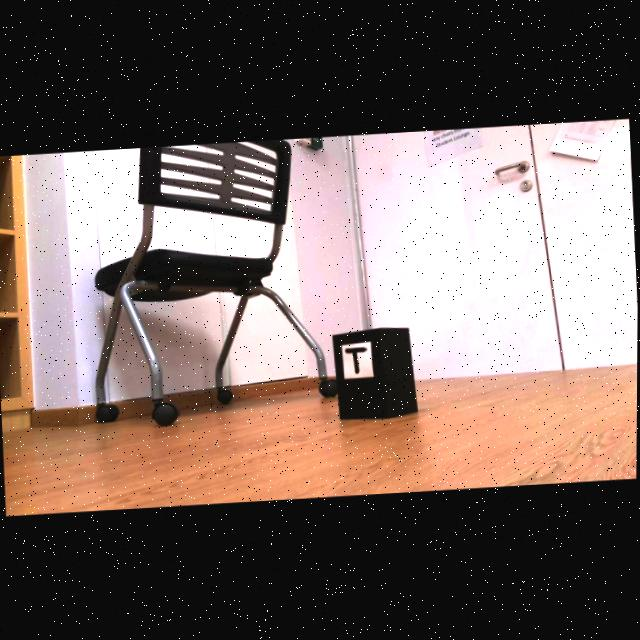T: (347, 348, 367, 375)
